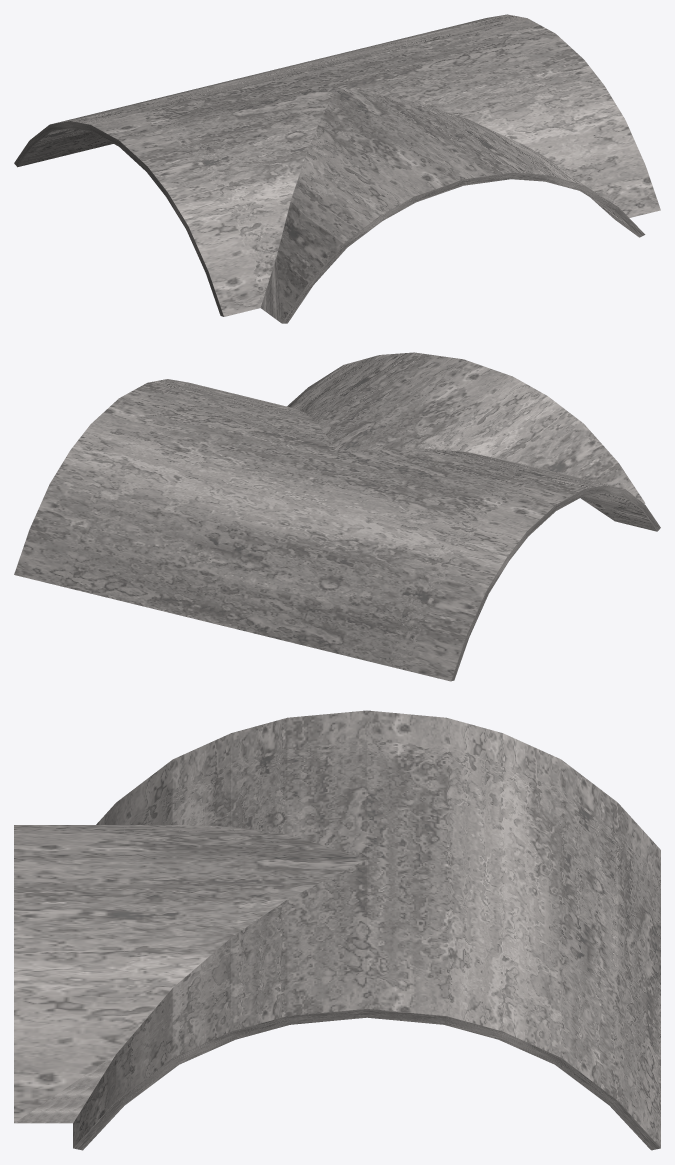
Rendered from MD_Cons_SCeiling01_fbx.fbx.
3 views of the same model, one above another, from view 1: azimuth 30°, elevation 25°; view 2: azimuth 150°, elevation 25°; view 3: azimuth 270°, elevation 25° (orthographic). The views are drawn at different scales.
Visible parts, largest first — view 1: MD_Cons_SCeiling01; view 2: MD_Cons_SCeiling01; view 3: MD_Cons_SCeiling01.
Boxes of the visible parts, bbox=[...] form: MD_Cons_SCeiling01: bbox=[14, 14, 660, 323]; MD_Cons_SCeiling01: bbox=[14, 352, 660, 681]; MD_Cons_SCeiling01: bbox=[14, 710, 660, 1150].
Bounding box in the file's own units: 300 × 275 × 66.41.
1 material, 1 textured.
